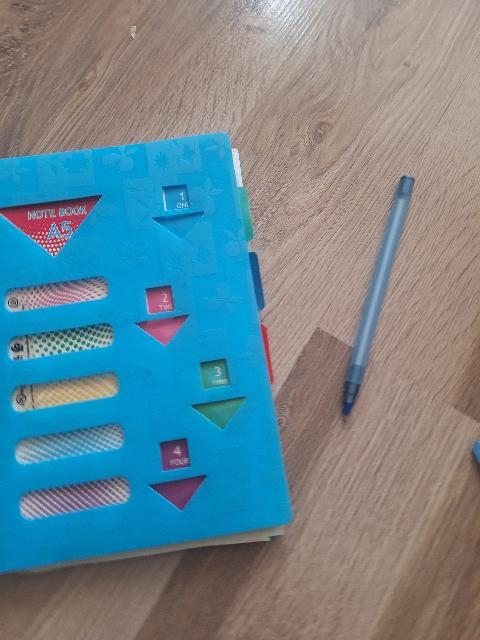writing_tool: (336, 176, 412, 420)
